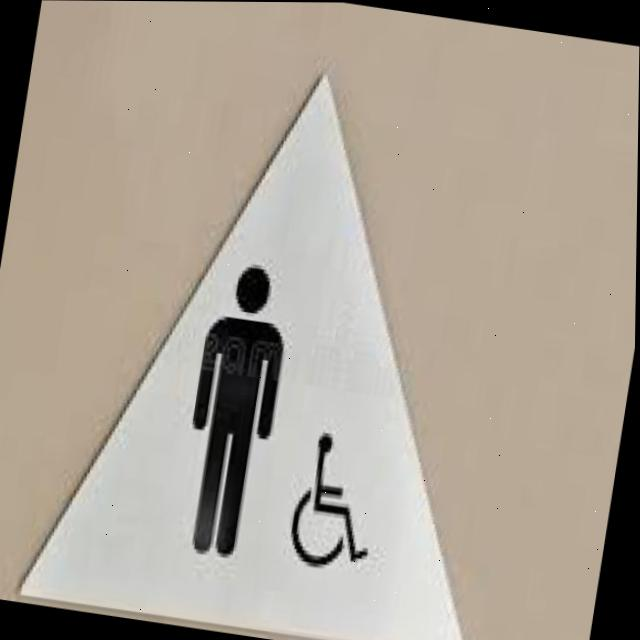symbol_of_access: (282, 418, 395, 592)
